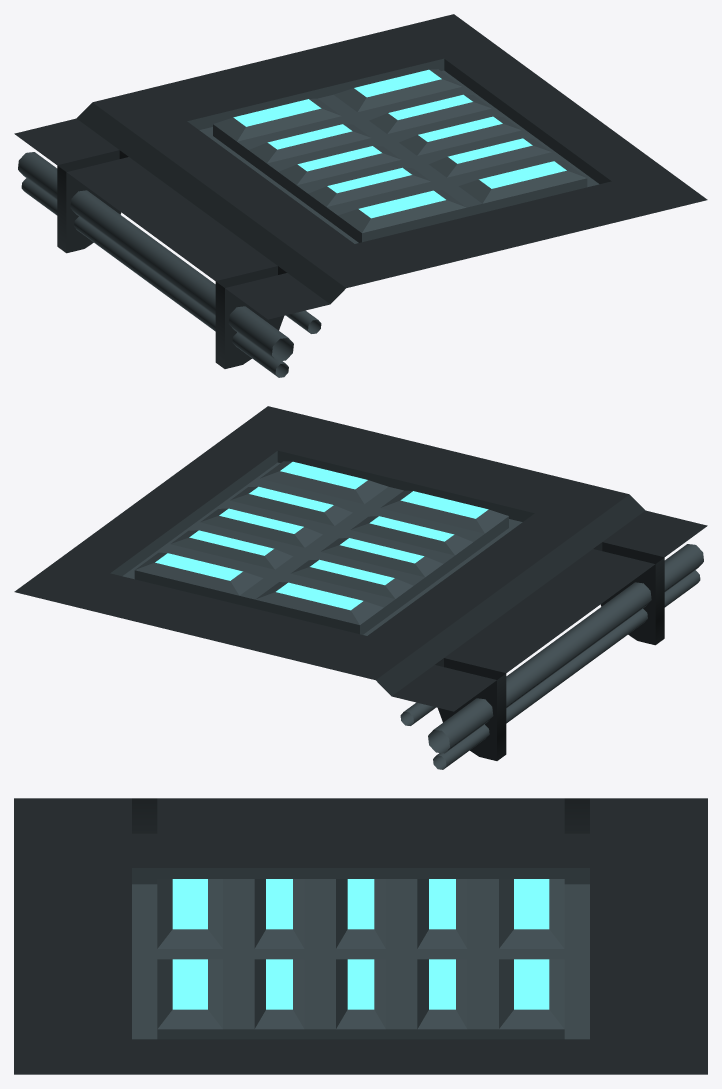
File: ceilingLamp.fbx
The picture shows the model from 3 angles, top to bottom: view 1: azimuth 30°, elevation 25°; view 2: azimuth 150°, elevation 25°; view 3: azimuth 270°, elevation 25°; orthographic projection. The views are drawn at different scales.
Parts seen in each view (by area): view 1: ceilingLamp; view 2: ceilingLamp; view 3: ceilingLamp.
Part boxes in pixels (x1,y1,x2,y2): ceilingLamp: (14, 14, 707, 377); ceilingLamp: (14, 406, 707, 769); ceilingLamp: (14, 798, 707, 1074).
Bounding box in the file's own units: 2 × 2 × 0.4373.
